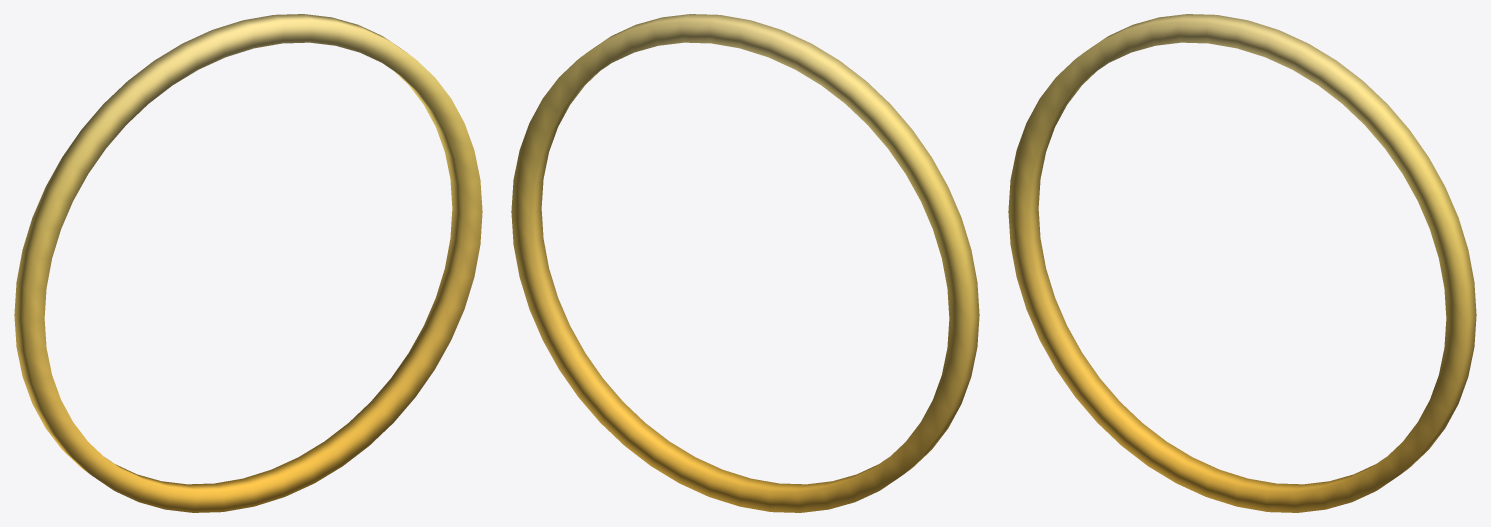
The model's file is Door.fbx.
3 renders of one model, left to right at view 1: azimuth 30°, elevation 25°; view 2: azimuth 150°, elevation 25°; view 3: azimuth 330°, elevation 25°, orthographic.
Visible parts, largest first — view 1: ITM_door; view 2: ITM_door; view 3: ITM_door.
Boxes of the visible parts, x1,y1,x2,y2 form: ITM_door: [14, 14, 482, 512]; ITM_door: [511, 14, 979, 512]; ITM_door: [1008, 14, 1476, 512].
Bounding box in the file's own units: 9.92 × 9.92 × 0.4162.
